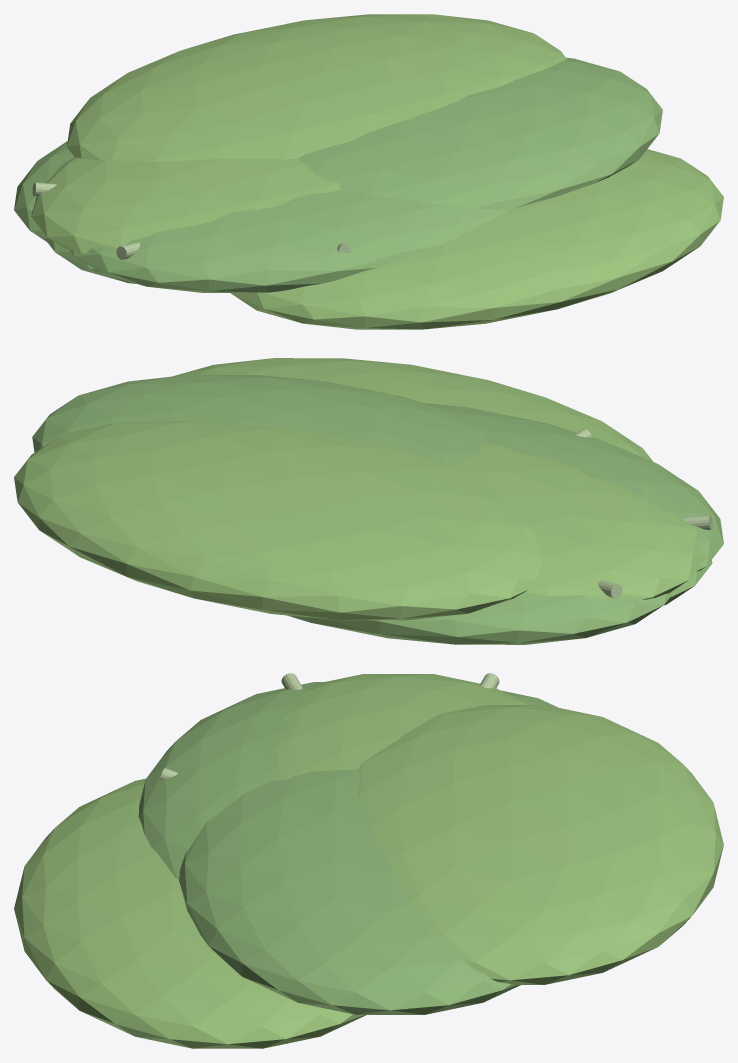
Rendered from slaw.glb.
3 views of the same model, one above another, from view 1: azimuth 30°, elevation 25°; view 2: azimuth 150°, elevation 25°; view 3: azimuth 270°, elevation 25° (orthographic). The views are drawn at different scales.
Visible parts, largest first — view 1: obj_0012, obj_0002, obj_0000, obj_0004, obj_0008, obj_0010, obj_0006; view 2: obj_0012, obj_0000, obj_0008, obj_0002, obj_0010, obj_0004; view 3: obj_0012, obj_0000, obj_0002, obj_0004, obj_0008.
Boxes of the visible parts, x1,y1,x2,y2 form: obj_0012: [67, 14, 566, 161]; obj_0002: [230, 149, 723, 329]; obj_0000: [297, 57, 662, 209]; obj_0004: [69, 189, 509, 292]; obj_0008: [31, 157, 341, 253]; obj_0010: [14, 141, 74, 241]; obj_0006: [44, 237, 135, 283]; obj_0012: [14, 421, 541, 620]; obj_0000: [32, 374, 488, 466]; obj_0008: [457, 442, 706, 599]; obj_0002: [172, 358, 652, 461]; obj_0010: [286, 592, 672, 644]; obj_0004: [425, 403, 723, 571]; obj_0012: [358, 705, 723, 984]; obj_0000: [179, 769, 520, 1014]; obj_0002: [14, 778, 366, 1048]; obj_0004: [138, 682, 323, 879]; obj_0008: [272, 674, 530, 780].
Bounding box in the file's own units: 1.2 × 0.2215 × 1.06.
